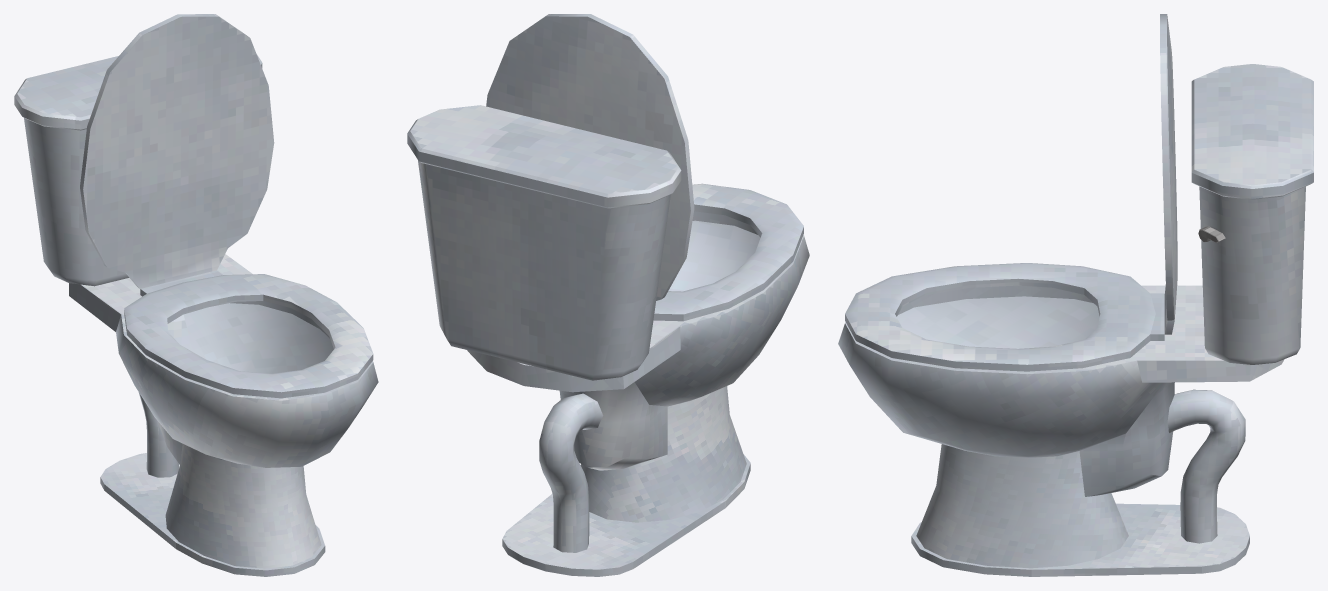
The model's file is toilet_.fbx.
The picture shows the model from 3 angles, left to right: view 1: azimuth 30°, elevation 25°; view 2: azimuth 150°, elevation 25°; view 3: azimuth 270°, elevation 25°; orthographic projection. The views are drawn at different scales.
Visible parts, largest first — view 1: SIEFRING_Toilet_LP; view 2: SIEFRING_Toilet_LP; view 3: SIEFRING_Toilet_LP.
Part boxes in pixels (x1,y1,x2,y2): SIEFRING_Toilet_LP: (14, 14, 378, 576); SIEFRING_Toilet_LP: (407, 14, 809, 576); SIEFRING_Toilet_LP: (838, 14, 1313, 576).
Bounding box in the file's own units: 65.22 × 127 × 106.
